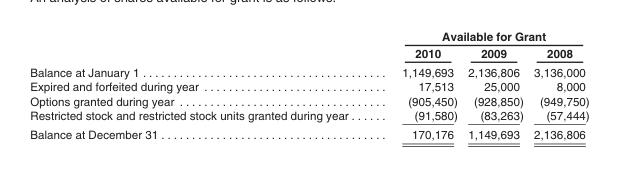table: (29, 28, 588, 140)
table column: (29, 28, 374, 140), (374, 28, 462, 140), (462, 28, 527, 140), (527, 28, 588, 140)
table column header: (29, 28, 588, 62)
table row: (29, 44, 588, 62), (29, 62, 588, 79), (29, 107, 588, 124), (29, 28, 588, 44), (29, 124, 588, 140), (29, 79, 588, 93), (29, 93, 588, 107)
table spanning cell: (374, 28, 588, 44)
